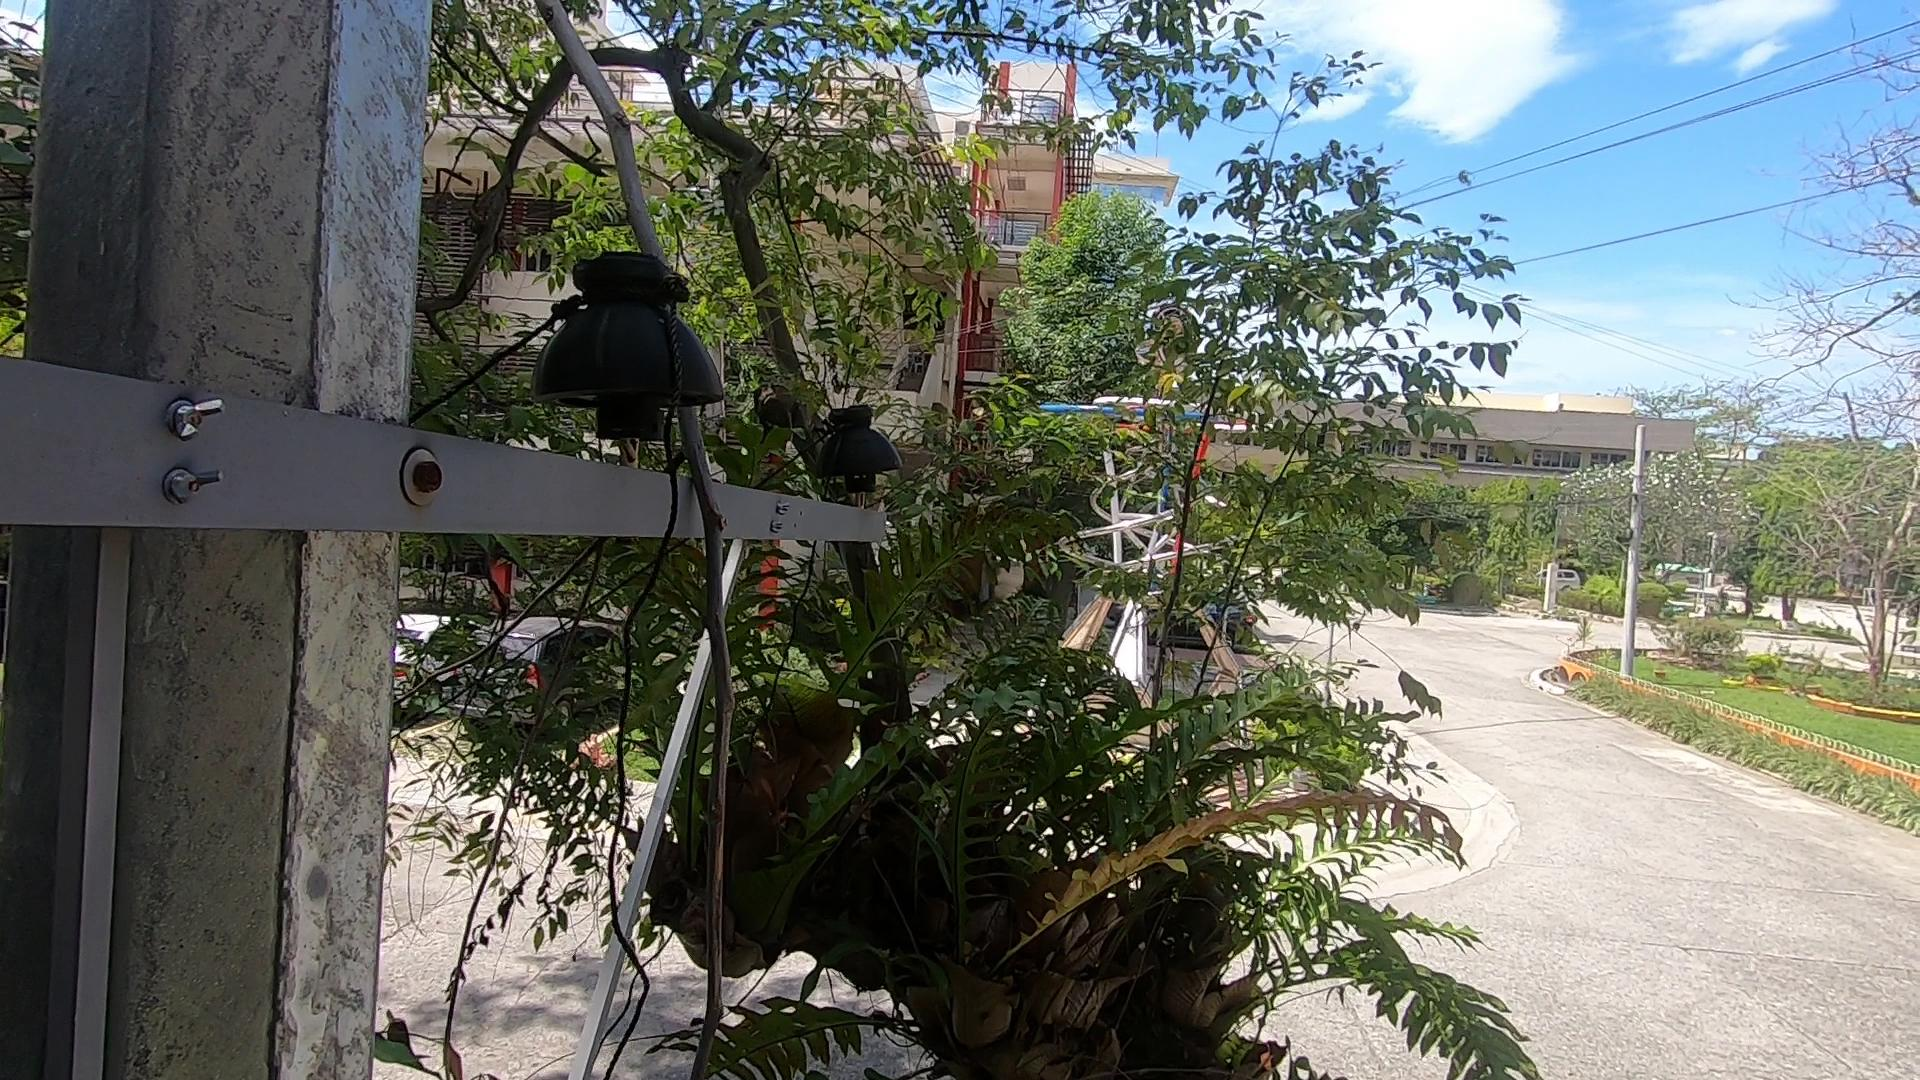tree branch: (481, 16, 799, 1080)
